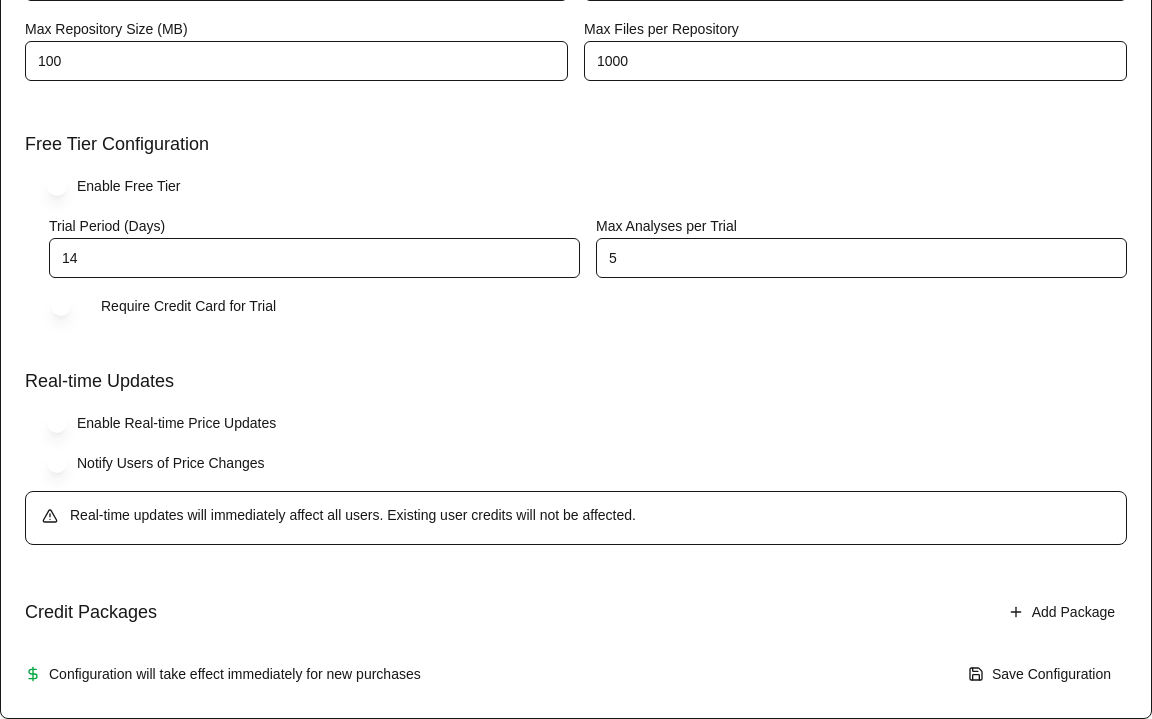
Admin Configuration Interface › PricingConfig › should validate form inputs
(page scrolled)
What coordinates should you click on to do the following:
click the button "Save Configuration"
I would click on:
 (1039, 674)
Its box is left=952, top=654, right=1127, bottom=694.
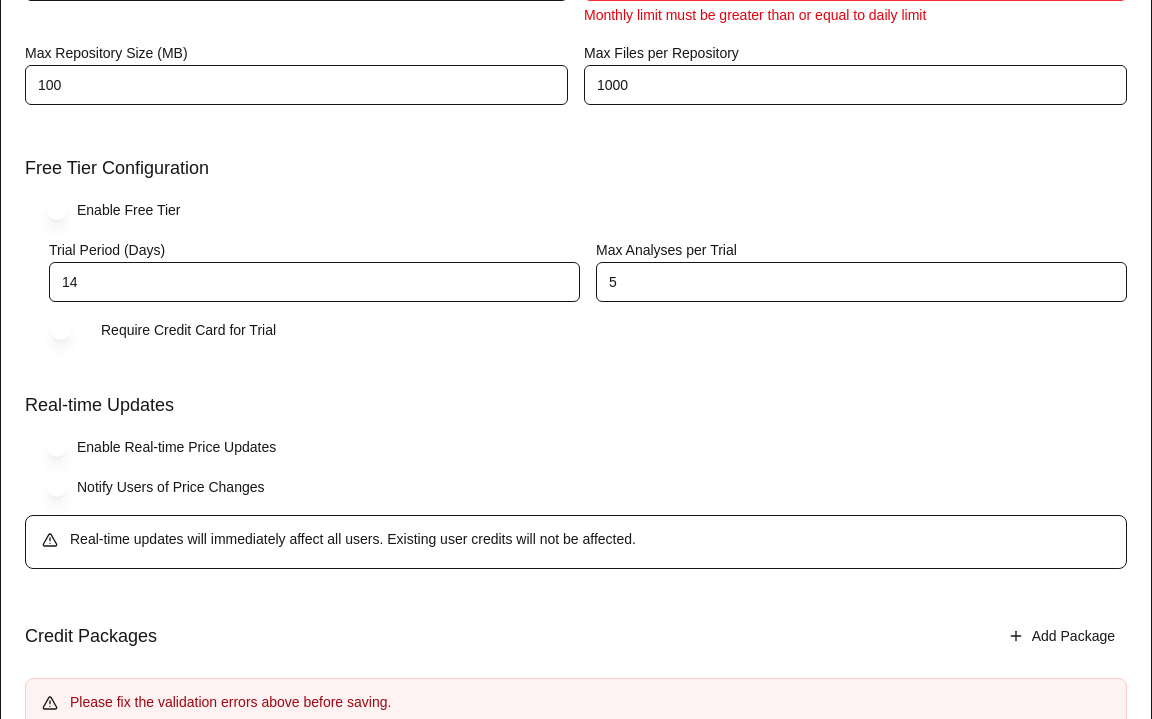
Check: the text "Please fix the validation errors above before saving." is shown, box left=70, top=694, right=391, bottom=710
